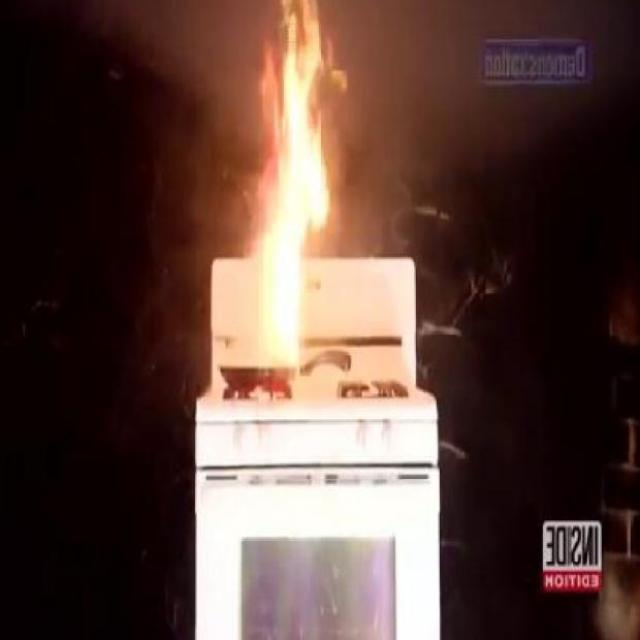smoke: (240, 0, 355, 366)
